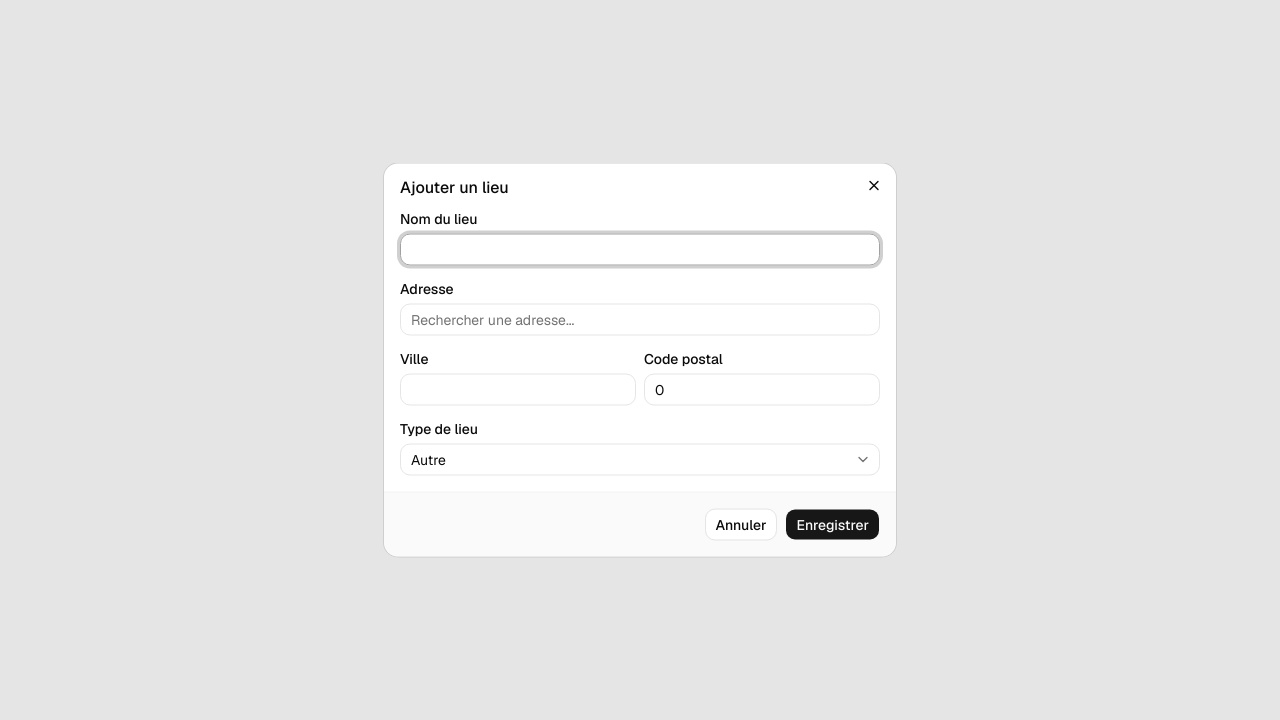
Test: AddLocationModal › changes location type when select is changed
# Open the Base UI Select (currently showing the default "Autre") and pick "Restaurant".
Click the text "Autre". click: click(428, 460)
box: 411,450 -> 446,468
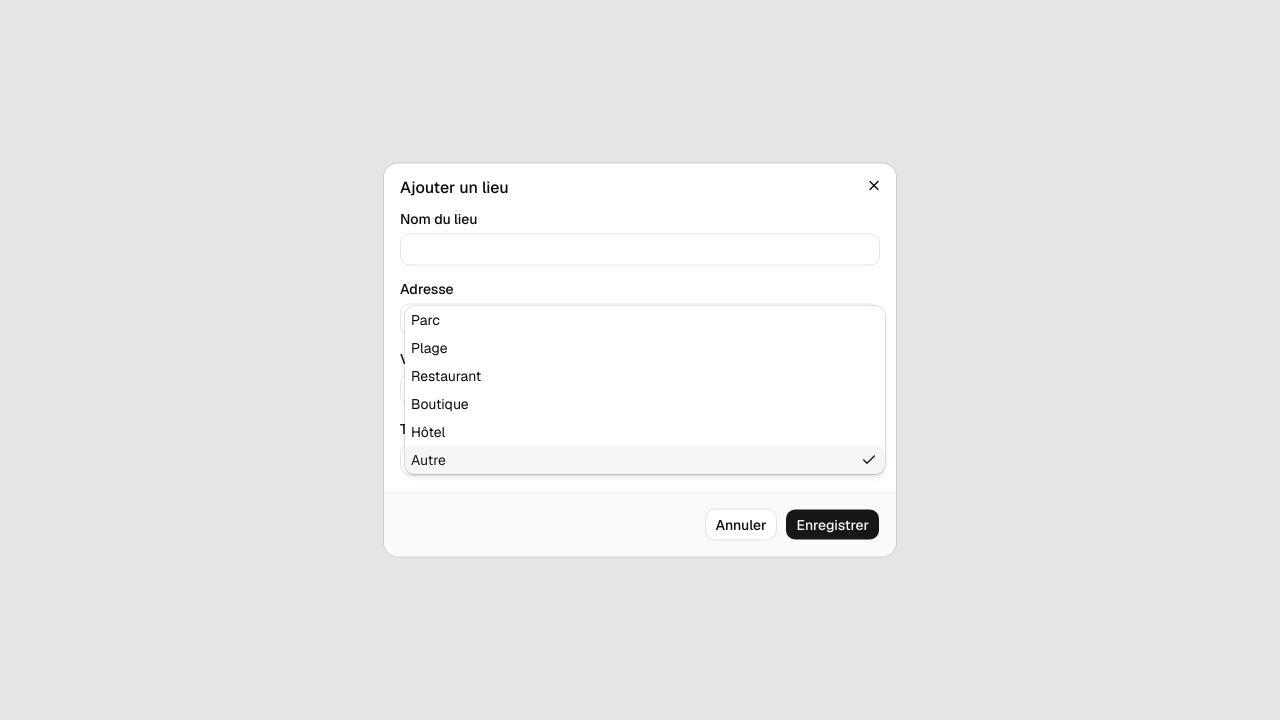
Click the option "Restaurant". click: click(446, 376)
box: 411,366 -> 481,384
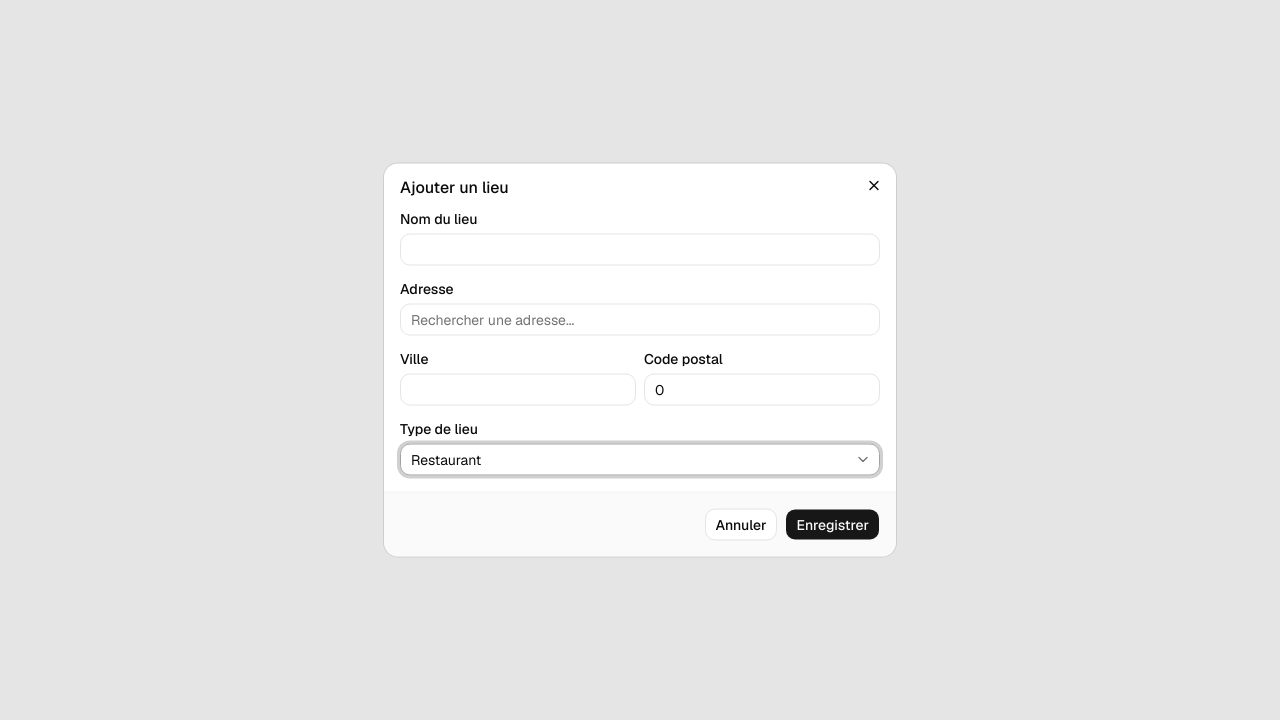
expect the text "Autre" reads "Restaurant": met, box 411,450 -> 481,468
